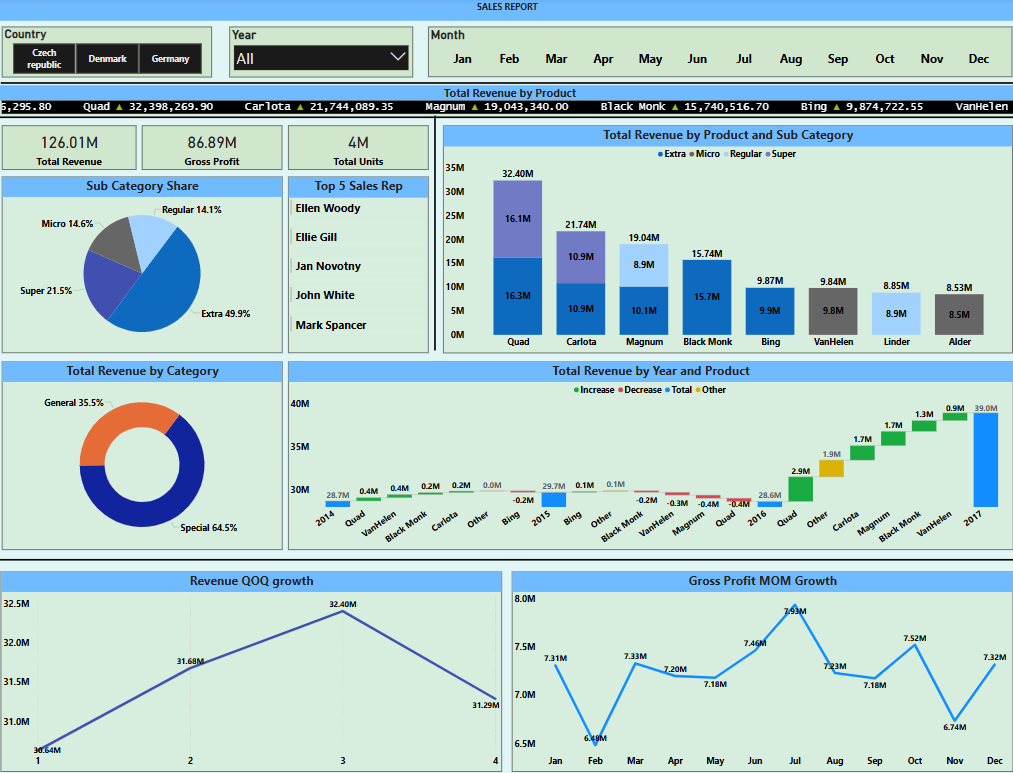

The page's visual inventory and layout, read from the dashboard file:
{"tool":"powerbi","page":{"name":"Duplicate of Page 1","canvas":[2500,1900],"ordinal":3},"visuals":[{"type":"textbox","box":[0,0,2499.4,55.2],"z":0},{"type":"slicer","title":"Country","fields":{"Values":["Geography.Country"]},"box":[23.3,69.8,508.6,122.1],"z":1000},{"type":"slicer","title":"Year","fields":{"Values":["DateMaster.Year"]},"box":[575.4,69.8,444.7,122.1],"z":2000},{"type":"slicer","title":"Month","fields":{"Values":["DateMaster.Month Name"]},"box":[1057.9,69.8,1441.5,122.1],"z":3000},{"type":"shape","box":[21.2,181.9,2479.6,48.5],"z":4000},{"type":"shape","box":[0,215.1,2476.2,148.2],"z":5000},{"type":"card","fields":{"Values":["Sales.Total Revenue"]},"box":[23.3,308.1,325.5,107.5],"z":6000},{"type":"card","fields":{"Values":["Sales.Units"]},"box":[717.9,308.1,340,107.5],"z":7000},{"type":"card","fields":{"Values":["Sales.Gross Profit"]},"box":[363.3,308.1,340,107.5],"z":8000},{"type":"shape","box":[1031.7,284.8,87.2,569.6],"z":9000},{"type":"pieChart","title":" Sub Category Share","fields":{"Category":["SubCategory.SubCategory Name"],"Y":["Sales.Total Revenue"]},"box":[23.3,433,680.1,427.2],"z":10000},{"type":"donutChart","title":"Total Revenue by Category ","fields":{"Y":["Sales.Total Revenue"],"Category":["Categories.Category"]},"box":[23.3,880.6,680.1,456.3],"z":11000},{"type":"multiRowCard","title":"Top 5 Sales Rep","fields":{"Values":["Sales rep.Sales Rep Name"]},"box":[717.9,433,340,427.2],"z":12000},{"type":"ScrollingTextVisual1448795304508","title":"Total Revenue by Product","fields":{"Category":["Product.ProductName"],"Measure Deviation":["Sales.Total Revenue"]},"box":[18.2,212.2,2476.6,72.8],"z":13000},{"type":"waterfallChart","title":"Total Revenue by Year and Product","fields":{"Category":["DateMaster.Year"],"Breakdown":["Product.ProductName"],"Y":["Sales.Total Revenue"]},"box":[717.9,880.6,1758.3,456.3],"z":14000},{"type":"columnChart","title":"Total Revenue by Product and Sub Category","fields":{"Category":["Product.ProductName"],"Y":["Sales.Total Revenue"],"Series":["SubCategory.SubCategory Name"]},"box":[1095.7,308.1,1380.5,552.2],"z":15000},{"type":"shape","box":[0,1287.5,2476.2,148.2],"z":16000},{"type":"lineChart","title":" Revenue QOQ growth ","fields":{"Category":["DateMaster.Quarter"],"Y":["Sales.Total Revenue"]},"box":[21.2,1391.4,1215.5,485],"z":17000},{"type":"lineChart","title":"Gross Profit MOM Growth ","fields":{"Y":["Sales.Gross Profit"],"Category":["DateMaster.Month Name"]},"box":[1261,1391.4,1215.5,485],"z":18000}]}

Visuals, with their boxes in screenshot pixels (x1, y1, x2, y2), scaled from the page's 2500x1900 canvas onto the 1013x773 screenshot:
textbox: l=0, t=0, r=1012, b=22
"Country" slicer: l=9, t=28, r=216, b=78
"Year" slicer: l=233, t=28, r=413, b=78
"Month" slicer: l=429, t=28, r=1012, b=78
shape: l=9, t=74, r=1012, b=94
shape: l=0, t=88, r=1003, b=148
card - Sales.Total Revenue: l=9, t=125, r=141, b=169
card - Sales.Units: l=291, t=125, r=429, b=169
card - Sales.Gross Profit: l=147, t=125, r=285, b=169
shape: l=418, t=116, r=453, b=348
" Sub Category Share" pieChart: l=9, t=176, r=285, b=350
"Total Revenue by Category " donutChart: l=9, t=358, r=285, b=544
"Top 5 Sales Rep" multiRowCard: l=291, t=176, r=429, b=350
"Total Revenue by Product" ScrollingTextVisual1448795304508: l=7, t=86, r=1011, b=116
"Total Revenue by Year and Product" waterfallChart: l=291, t=358, r=1003, b=544
"Total Revenue by Product and Sub Category" columnChart: l=444, t=125, r=1003, b=350
shape: l=0, t=524, r=1003, b=584
" Revenue QOQ growth " lineChart: l=9, t=566, r=501, b=763
"Gross Profit MOM Growth " lineChart: l=511, t=566, r=1003, b=763
